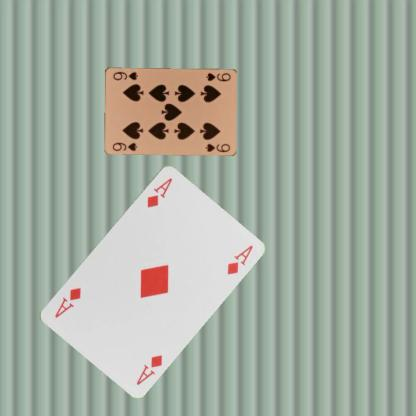9s: (204, 70, 232, 83), (110, 140, 139, 152)
Ad: (144, 174, 174, 208), (134, 352, 164, 386)
